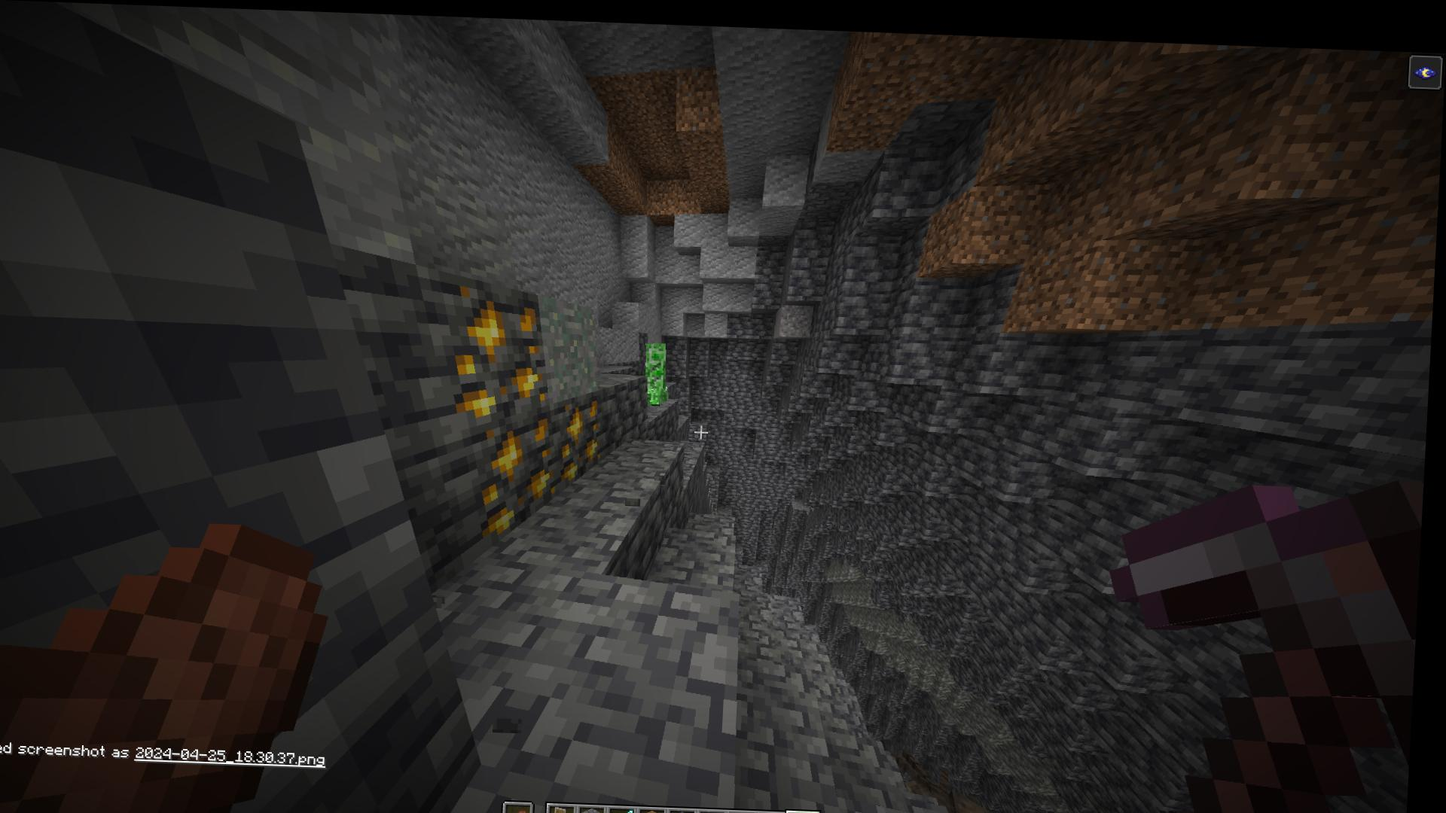gold ore: (443, 278, 556, 419), (479, 406, 559, 544), (562, 388, 606, 486)
